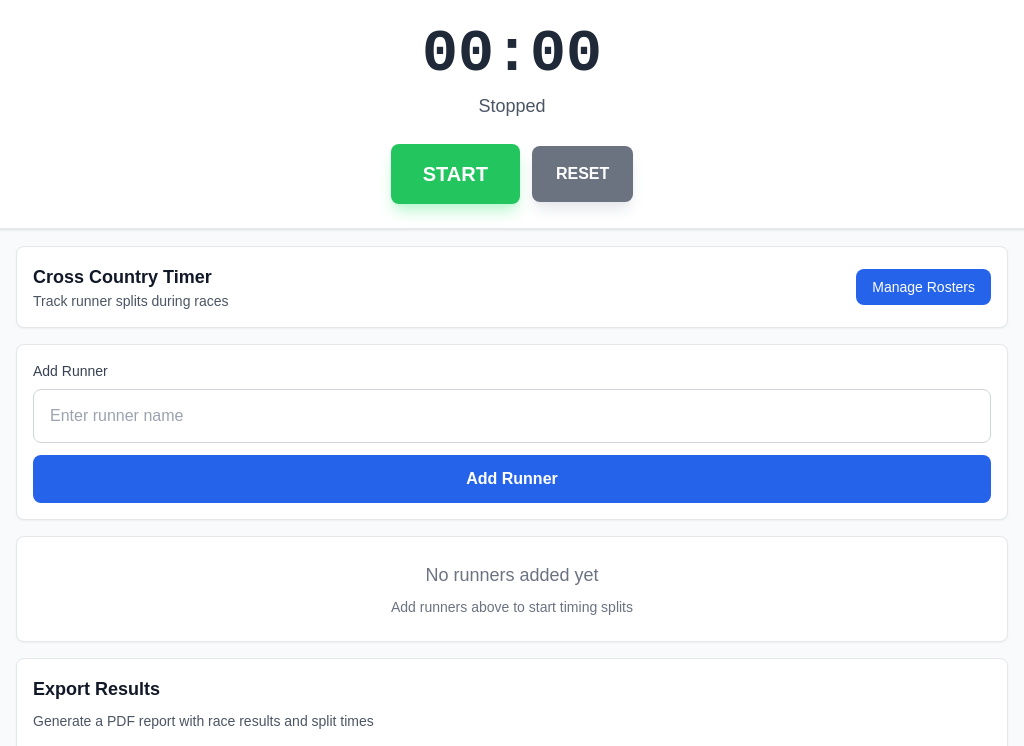
Scenario: Reset Functionality › should reset timer state
Start timer
Click the button "START": (455, 174) x1=391 y1=144 x2=520 y2=204
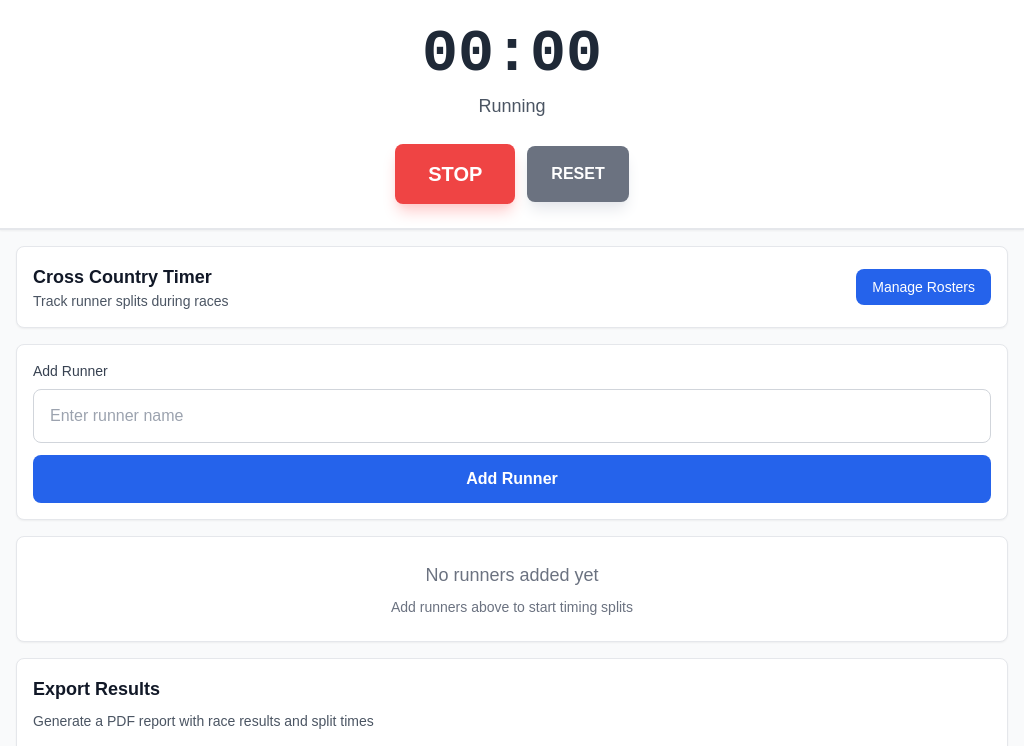
Expected: the text "Running" is shown, x1=478 y1=96 x2=546 y2=116
Click the button with aria-label "Reset timer and clear all data": (578, 174) x1=527 y1=146 x2=629 y2=202
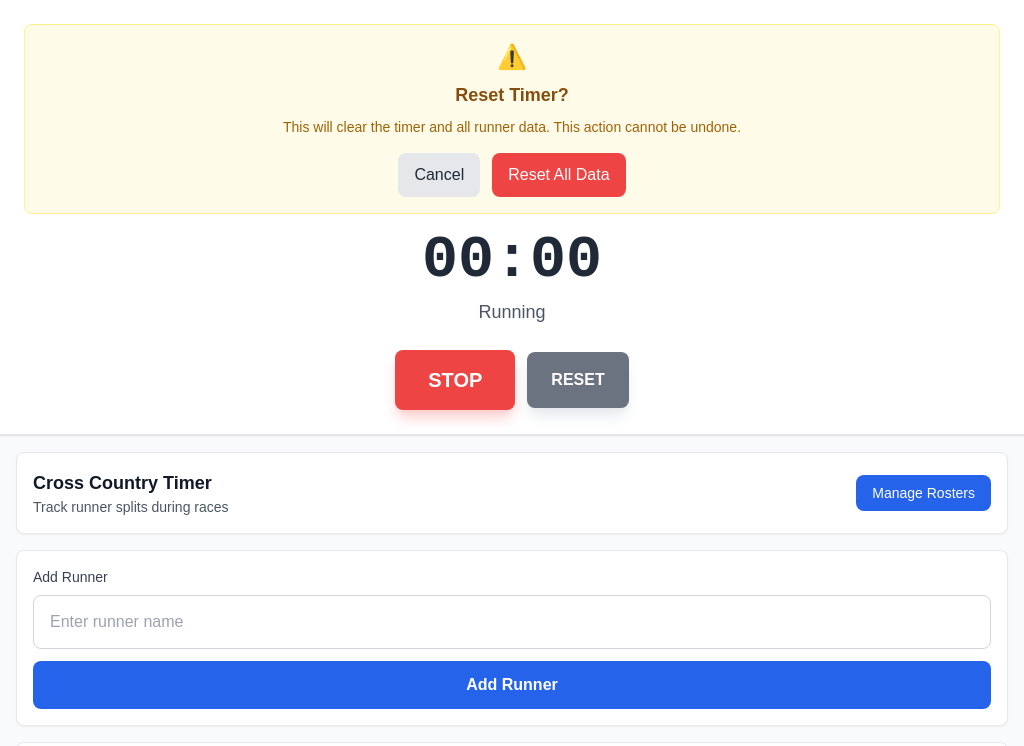
Click the button "Reset All Data": (559, 175) x1=492 y1=153 x2=626 y2=197
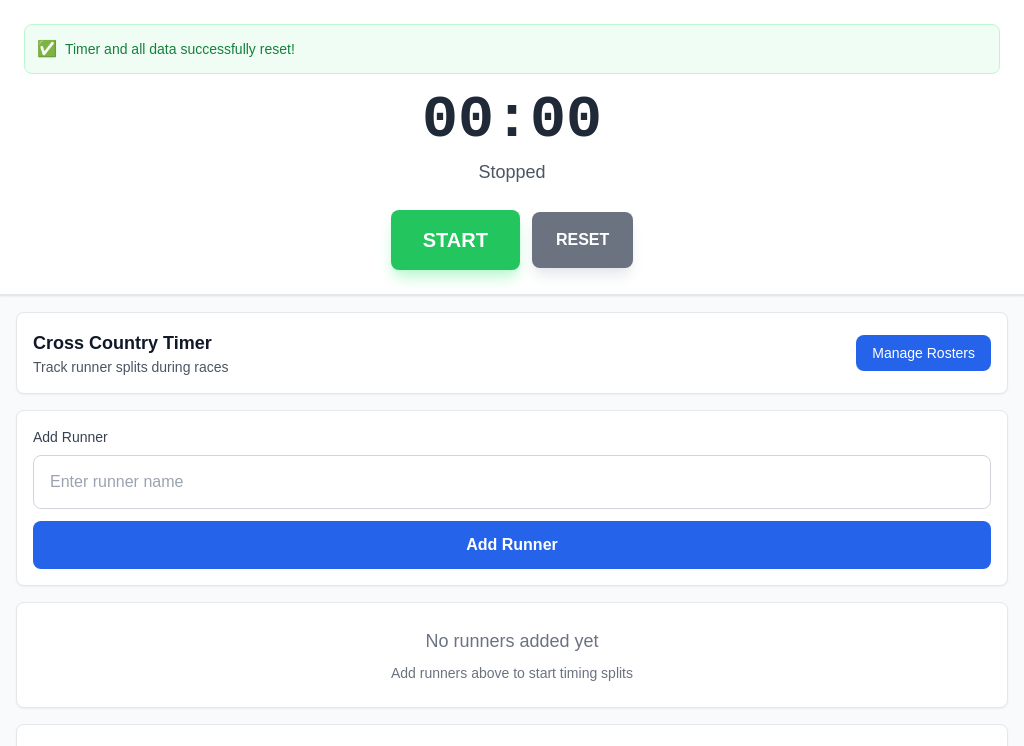
Expected: the text "00:00" is shown, x1=422 y1=86 x2=602 y2=154
Expected: the text "Stopped" is shown, x1=478 y1=162 x2=546 y2=182
Expected: the button "START" is shown, x1=391 y1=210 x2=520 y2=270
